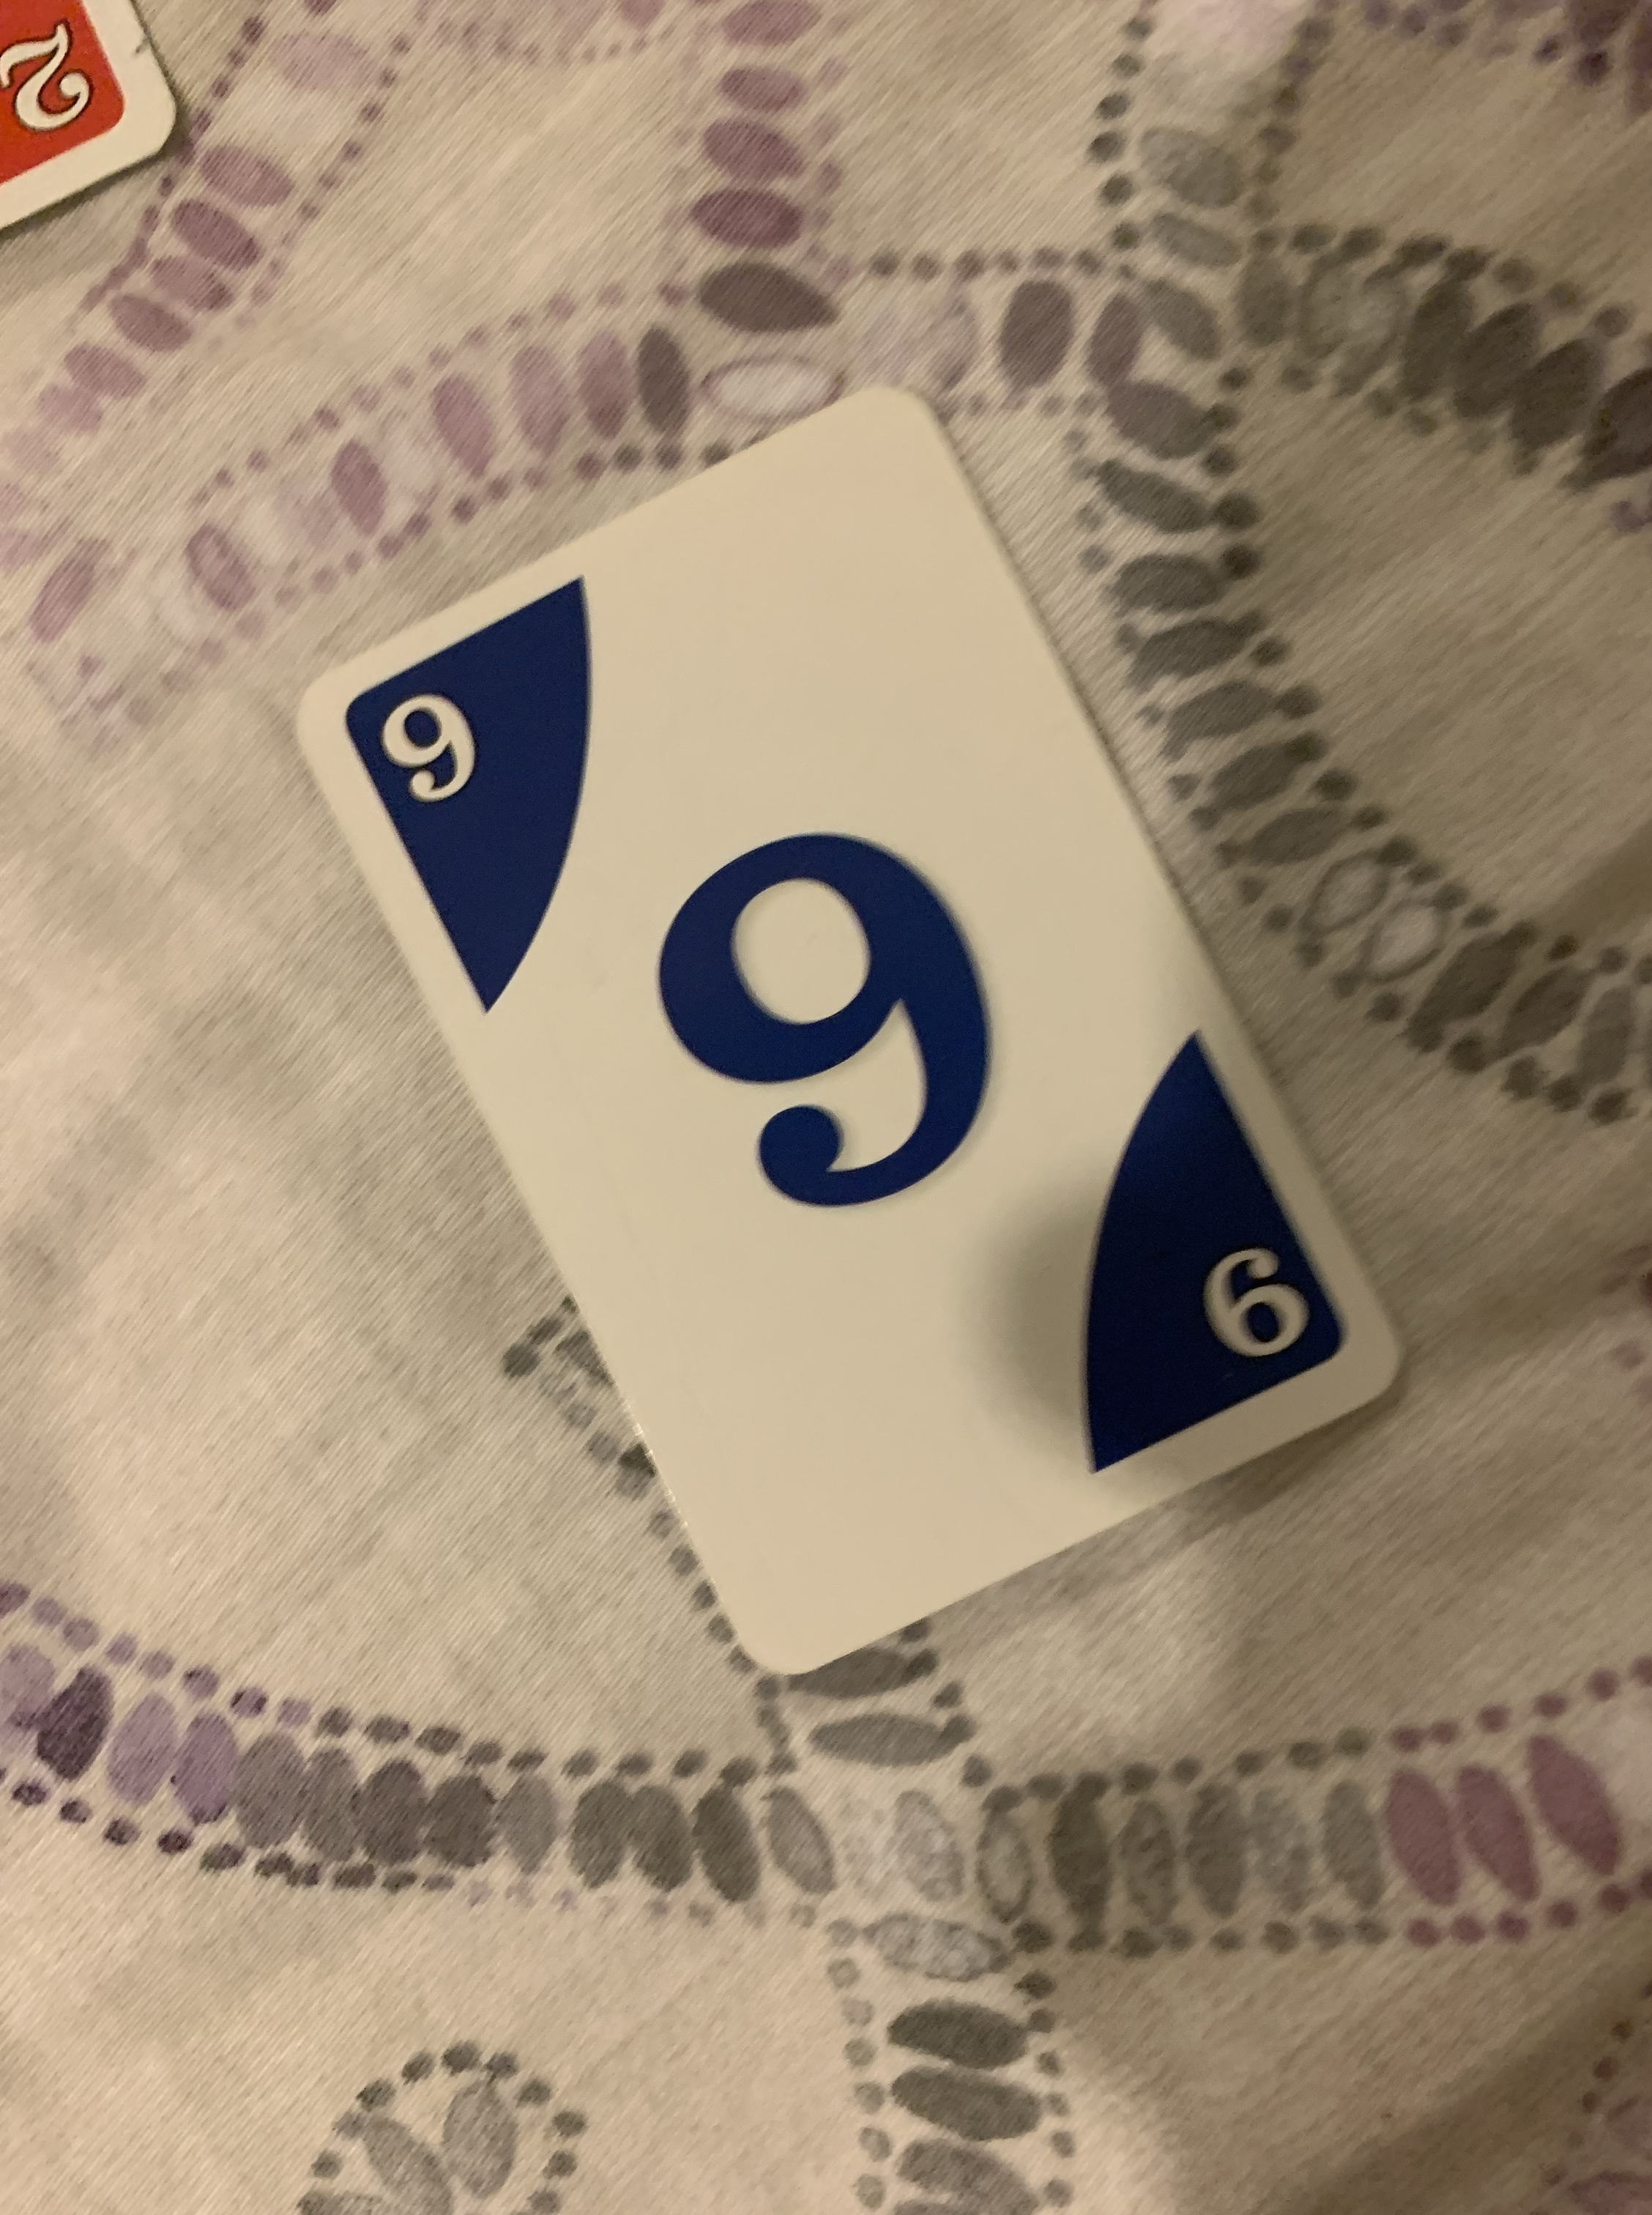nine: (267, 380, 1414, 1682)
